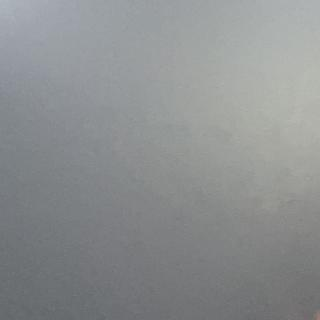fire: (307, 311, 320, 320)
